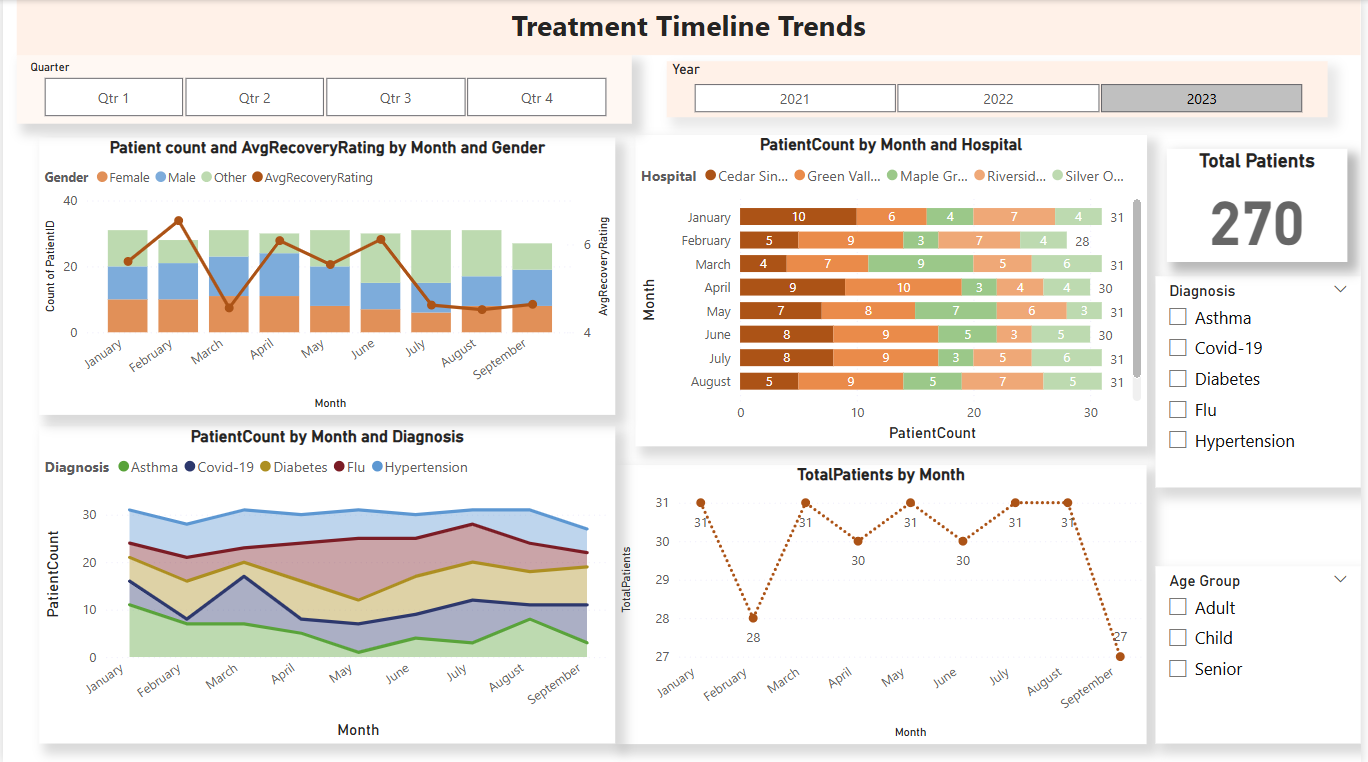

Layout of this report page (visuals, bound fields, positions):
{"tool":"powerbi","page":{"name":"Treatment Timeline Trends","canvas":[1280,720],"ordinal":2},"visuals":[{"type":"lineChart","fields":{"Category":["Sheet1.AdmissionDate.Variation.Date Hierarchy.Month"],"Y":["Sheet1.TotalPatients"]},"box":[577.6,438.5,501,262.9],"z":0},{"type":"slicer","title":"Year","fields":{"Values":["Sheet1.AdmissionDate.Variation.Date Hierarchy.Year"]},"box":[625.9,57.8,623.6,53],"z":1000},{"type":"stackedAreaChart","fields":{"Category":["Sheet1.AdmissionDate.Variation.Date Hierarchy.Month"],"Y":["Sheet1.PatientCount"],"Series":["Sheet1.Diagnosis"]},"box":[34.2,402,543.4,299.4],"z":2000},{"type":"barChart","fields":{"Category":["Sheet1.AdmissionDate.Variation.Date Hierarchy.Month"],"Y":["Sheet1.PatientCount"],"Series":["Sheet1.Hospital"]},"box":[596.5,127.3,482.1,293.5],"z":3000},{"type":"lineStackedColumnComboChart","title":"Patient count and AvgRecoveryRating by Month and Gender","fields":{"Category":["Sheet1.AdmissionDate.Variation.Date Hierarchy.Month"],"Y":["CountNonNull(Sheet1.PatientID)"],"Y2":["Sheet1.AvgRecoveryRating"],"Series":["Sheet1.Gender"]},"box":[34.2,129.7,543.4,261.7],"z":4000},{"type":"slicer","fields":{"Values":["Sheet1.Age Group"]},"box":[1086.8,534,193.3,167.4],"z":5000},{"type":"slicer","fields":{"Values":["Sheet1.AdmissionDate.Variation.Date Hierarchy.Quarter"]},"box":[13,51.9,580,64.8],"z":6000},{"type":"slicer","fields":{"Values":["Sheet1.Diagnosis"]},"box":[1086.8,260.5,193.3,199.2],"z":7000},{"type":"textbox","box":[12.4,0,1267.1,52.3],"z":8000},{"type":"card","title":"Total Patients","fields":{"Values":["Sheet1.PatientCount"]},"box":[1097.9,139.9,170.2,106.8],"z":9000}]}

Visuals, with their boxes in screenshot pixels (x1, y1, x2, y2), scaled from the page's 1280x720 canvas onto the 1368x762 screenshot:
lineChart - Sheet1.AdmissionDate.Variation.Date Hierarchy.Month x Sheet1.TotalPatients: bbox(617, 464, 1153, 742)
"Year" slicer: bbox(669, 61, 1335, 117)
stackedAreaChart - Sheet1.AdmissionDate.Variation.Date Hierarchy.Month x Sheet1.PatientCount: bbox(37, 425, 617, 742)
barChart - Sheet1.AdmissionDate.Variation.Date Hierarchy.Month x Sheet1.PatientCount: bbox(638, 135, 1153, 445)
"Patient count and AvgRecoveryRating by Month and Gender" lineStackedColumnComboChart: bbox(37, 137, 617, 414)
slicer - Sheet1.Age Group: bbox(1162, 565, 1367, 742)
slicer - Sheet1.AdmissionDate.Variation.Date Hierarchy.Quarter: bbox(14, 55, 634, 124)
slicer - Sheet1.Diagnosis: bbox(1162, 276, 1367, 487)
textbox: bbox(13, 0, 1367, 55)
"Total Patients" card: bbox(1173, 148, 1355, 261)
